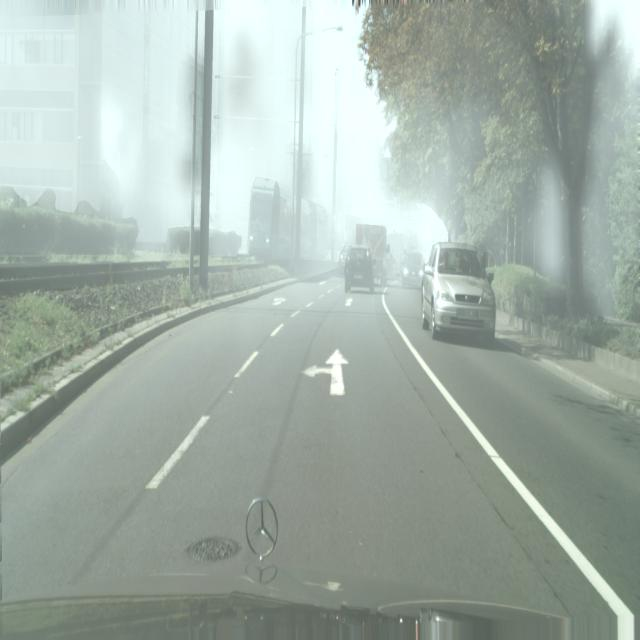bicycle: (248, 176, 328, 266)
rider: (355, 222, 388, 287), (386, 231, 405, 281)
truck: (421, 242, 496, 346), (345, 246, 374, 294), (401, 250, 425, 289), (339, 245, 351, 273)
